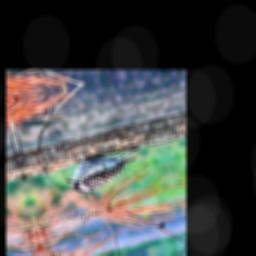Woodpecker: (54, 134, 152, 204)
